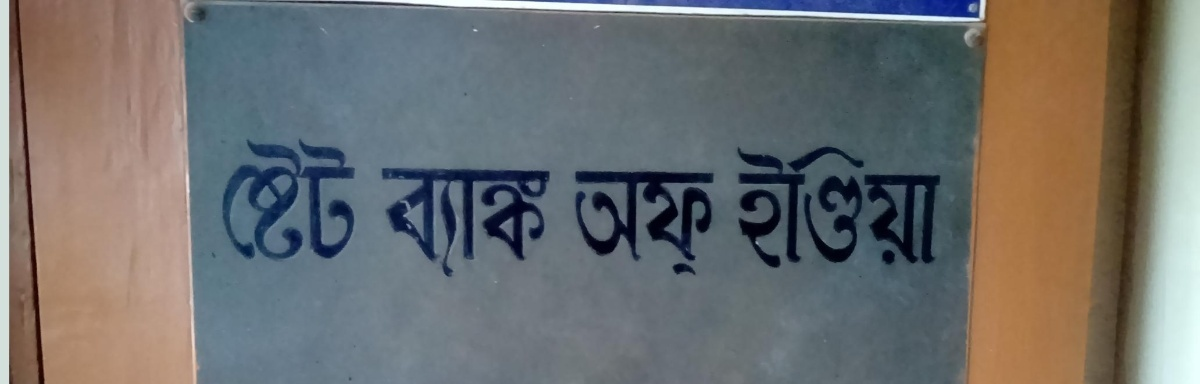text: (737, 142, 752, 270), (753, 142, 768, 270), (769, 142, 784, 270), (785, 142, 800, 270), (801, 142, 816, 270), (817, 142, 832, 270), (833, 142, 848, 270), (849, 142, 864, 270), (865, 142, 880, 270), (881, 142, 896, 270), (897, 142, 912, 270), (913, 142, 928, 270), (929, 142, 944, 270), (225, 136, 240, 262), (241, 136, 256, 262), (257, 136, 272, 262), (273, 136, 288, 262), (289, 136, 304, 262), (305, 136, 320, 262), (321, 136, 336, 262), (337, 136, 352, 262), (385, 165, 400, 279), (401, 165, 416, 279), (417, 165, 432, 279), (433, 165, 448, 279), (449, 165, 464, 279), (465, 165, 480, 279), (481, 165, 496, 279), (497, 165, 512, 279), (513, 165, 528, 279), (529, 165, 544, 279), (577, 167, 592, 279), (593, 167, 608, 279), (609, 167, 624, 279), (625, 167, 640, 279), (641, 167, 656, 279), (657, 167, 672, 279), (673, 167, 688, 279), (689, 167, 704, 279), (705, 167, 716, 279), (545, 165, 551, 279), (219, 136, 224, 262), (353, 136, 357, 262), (381, 165, 384, 279), (573, 167, 576, 279), (735, 142, 736, 270)
